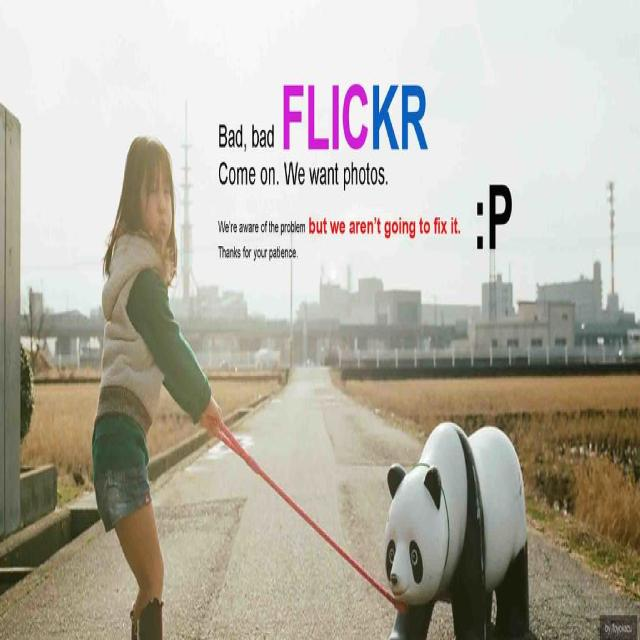panda: (387, 414, 531, 639)
